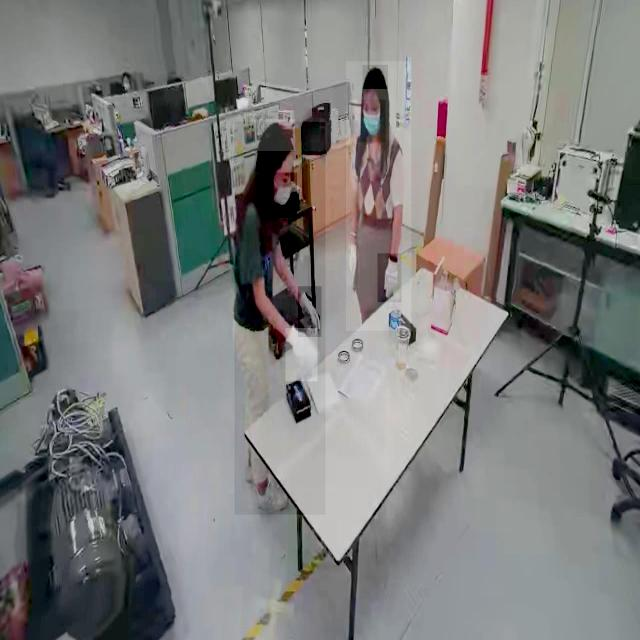face_mask: (267, 172, 297, 218), (358, 100, 386, 142)
hand_glove: (285, 328, 317, 382), (298, 286, 322, 337), (377, 253, 401, 303), (347, 240, 359, 289)
head_nohelmet: (257, 119, 295, 152), (362, 65, 388, 90)
person: (234, 122, 326, 516), (346, 61, 412, 332)
shoes: (253, 478, 293, 522)
